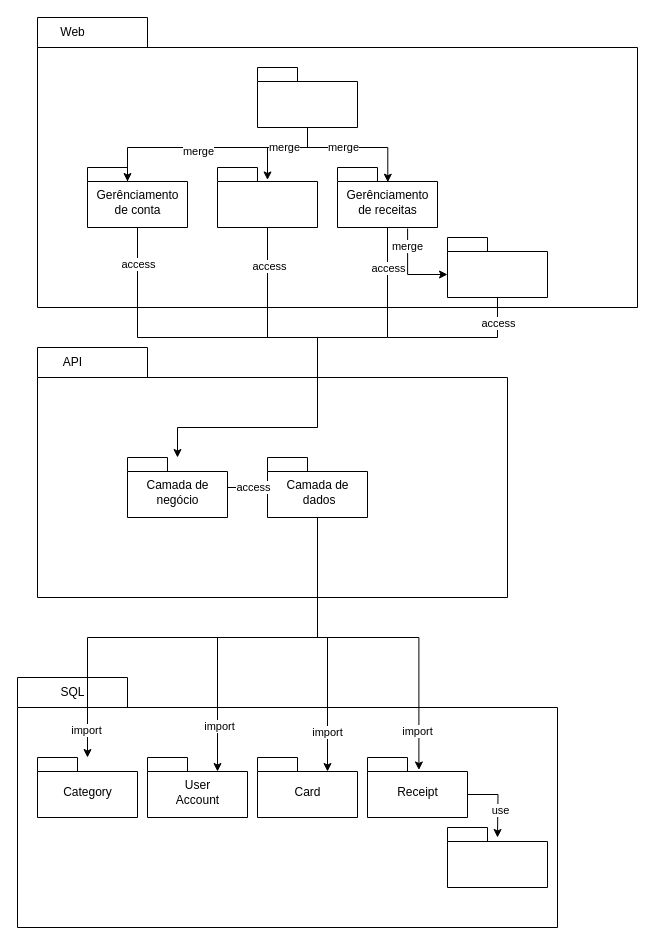
Some shapes in this 655 by 945 pixel diagram are drawn without their labels. Here are the shapes that lost their labels. From the top down, the centre of each, then its label:
the point at 307,97: UI
the point at 267,197: Gerênciamento de cartões
the point at 497,267: Gerênciamento de despezas
the point at 497,857: Expense
